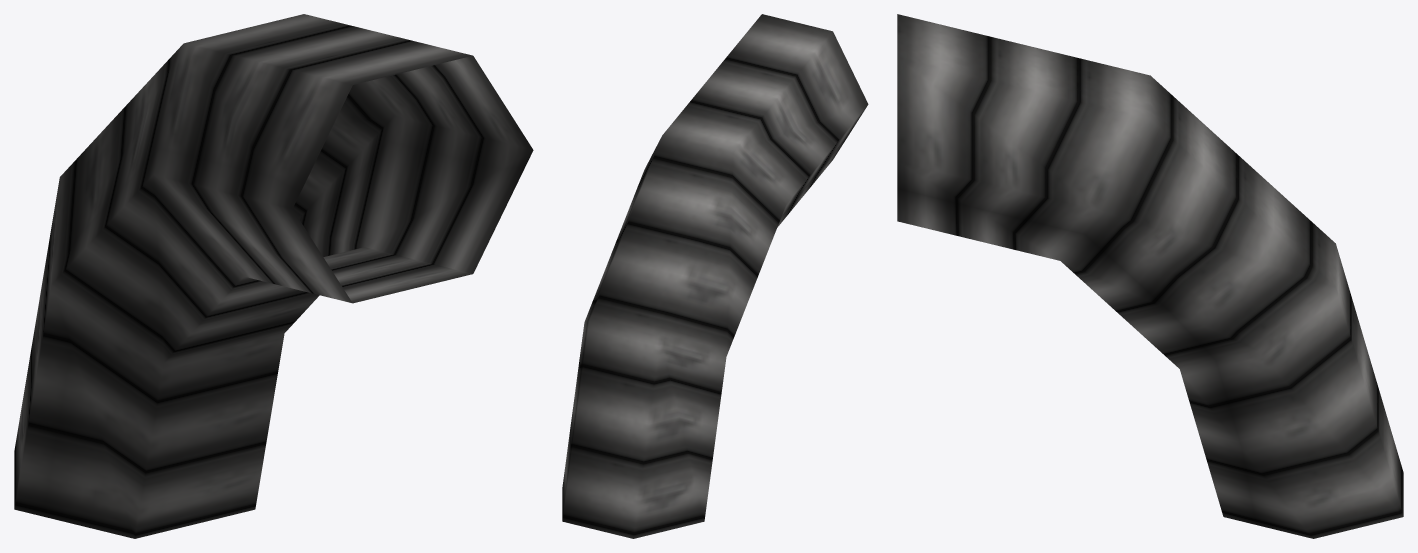
Rendered from small_ribbed_4_elbow.fbx.
The picture shows the model from 3 angles, left to right: view 1: azimuth 30°, elevation 25°; view 2: azimuth 150°, elevation 25°; view 3: azimuth 270°, elevation 25°; orthographic projection. The views are drawn at different scales.
Visible parts, largest first — view 1: allPipes:pTorus34; view 2: allPipes:pTorus34; view 3: allPipes:pTorus34.
Boxes of the visible parts, x1,y1,x2,y2 form: allPipes:pTorus34: (14, 14, 533, 538); allPipes:pTorus34: (562, 14, 868, 538); allPipes:pTorus34: (897, 14, 1403, 538).
Bounding box in the file's own units: 0.25 × 0.6083 × 0.6083.
